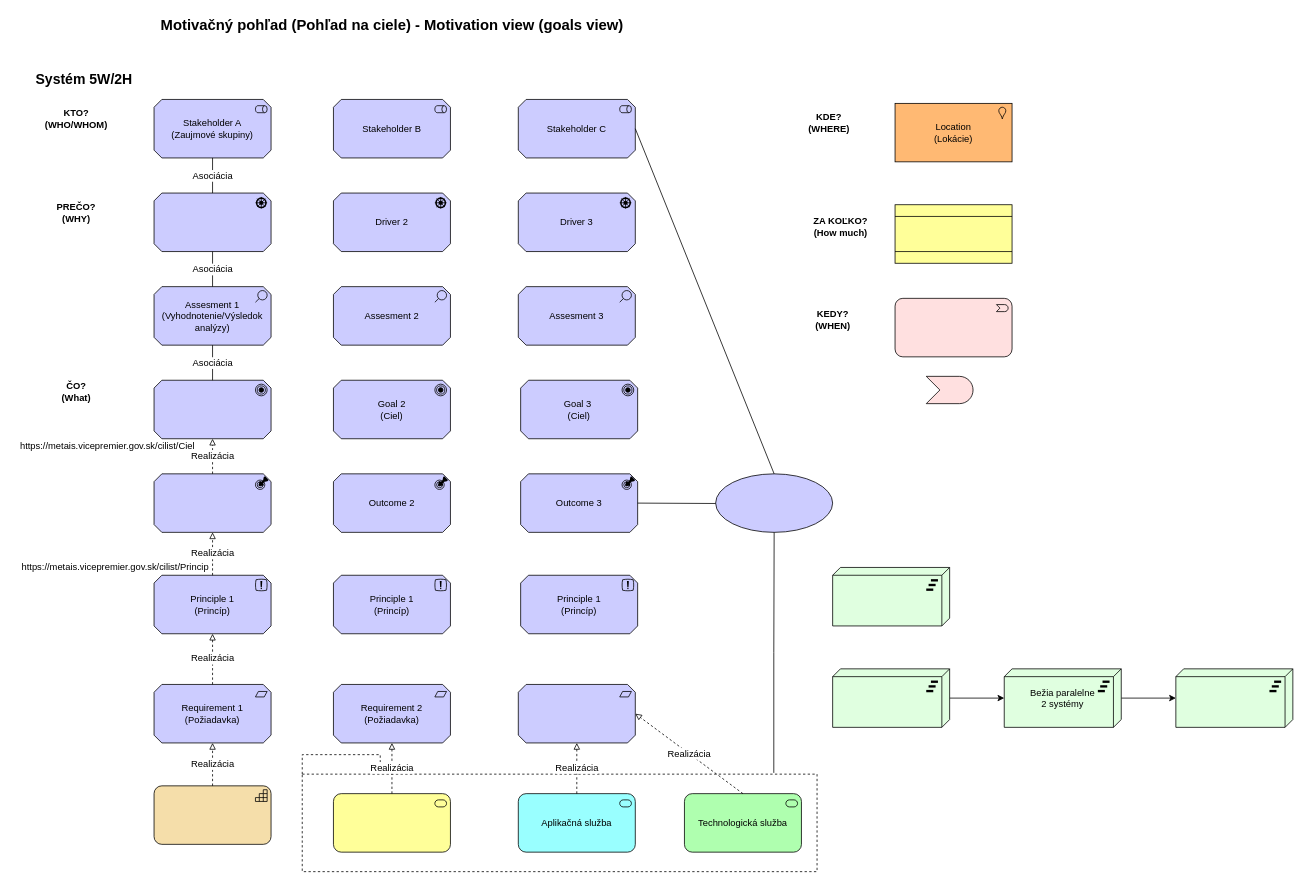
Image size: 1307x885. Some labels were removed from this diagram. Here are the shapes that lost their labels. From the top down, the centre of each, then its label:
At point (212, 222): "Driver 1 (Ovladáč/ťahúň)".
At point (212, 409): "Goal 1 (Ciel)".
At point (212, 502): "Outcome 1 (Konkrétny výsledok/výstup)".
At point (774, 502): "Value (Hodnota)".
At point (891, 596): "Plateau (Stavy architektúry)".
At point (576, 713): "Requirement 3 (Požiadavka)".
At point (891, 697): "Starý Hlasovací IS (Baseline)".
At point (1234, 697): "Nový Hlasovací IS".
At point (212, 814): "Kompetencie/zručnosti".
At point (391, 822): "Biznis služba".
